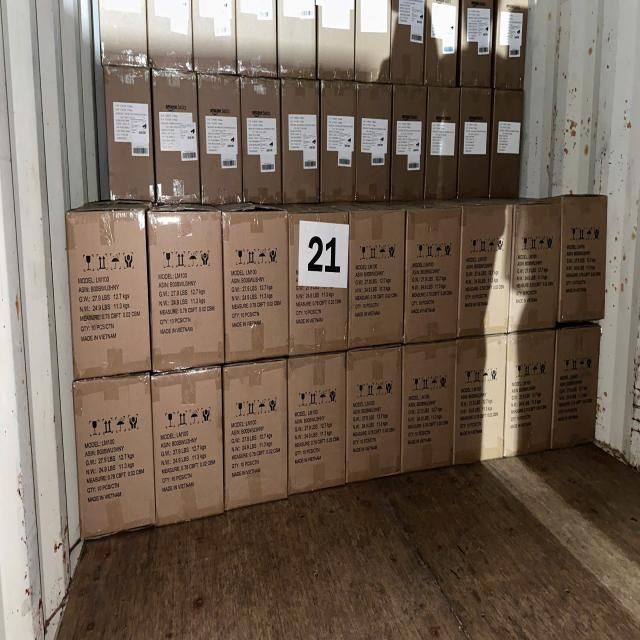Carton: (64, 208, 150, 373), (70, 372, 154, 530), (150, 208, 229, 368), (153, 367, 226, 518), (221, 213, 289, 357), (225, 362, 291, 502), (292, 210, 352, 352), (290, 357, 349, 488), (350, 211, 405, 346), (406, 210, 461, 340), (348, 352, 402, 480), (463, 207, 514, 337), (402, 346, 454, 468), (458, 334, 507, 457), (516, 204, 562, 330), (509, 335, 556, 455), (561, 196, 606, 320), (555, 328, 600, 446)
